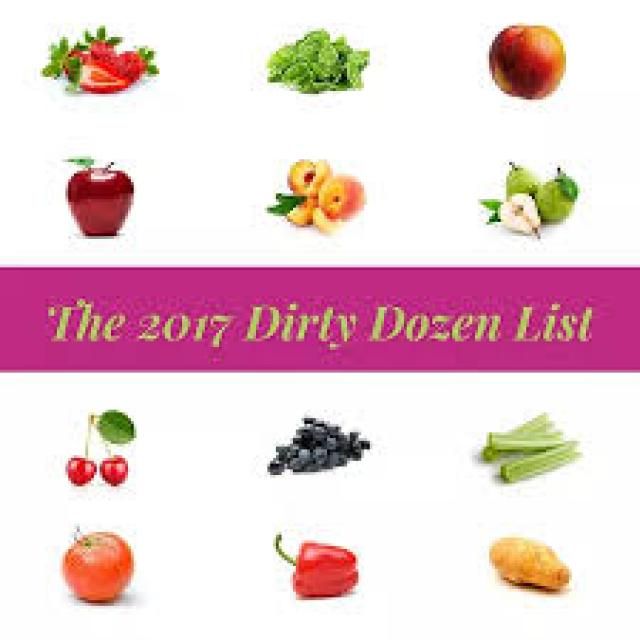Organik: (483, 408, 579, 483), (488, 162, 576, 241), (53, 30, 158, 94), (279, 524, 365, 596), (68, 518, 135, 606), (268, 414, 374, 469), (66, 159, 140, 237), (488, 24, 566, 96), (489, 524, 567, 596), (276, 161, 354, 230), (272, 28, 355, 92), (64, 414, 134, 486)
